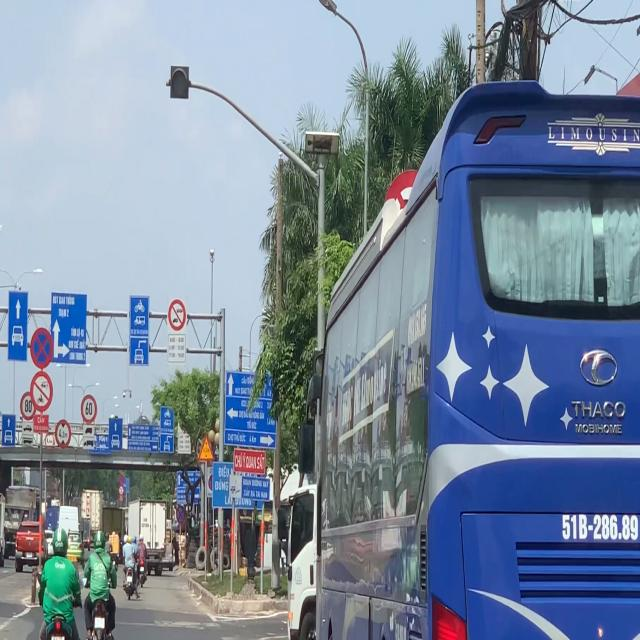Cam dung va do: (29, 326, 54, 370)
Chieu cao toi da: (55, 420, 71, 448)
Nguy hiem: (197, 433, 215, 463)
Toc do toi da: (81, 394, 98, 424)
